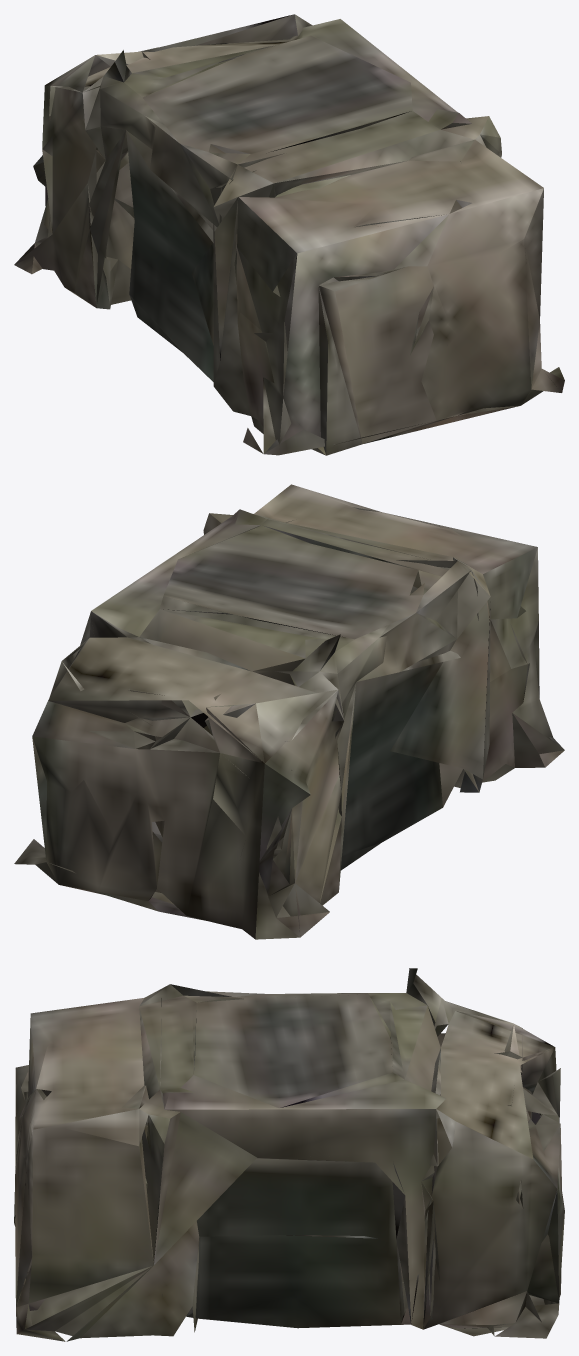
The model's file is barracks_255553835_lod0m.glb.
The picture shows the model from 3 angles, top to bottom: view 1: azimuth 30°, elevation 25°; view 2: azimuth 150°, elevation 25°; view 3: azimuth 270°, elevation 25°; orthographic projection.
Bounding box in the file's own units: 9 × 7.26 × 13.95.
1 material, 1 textured.
